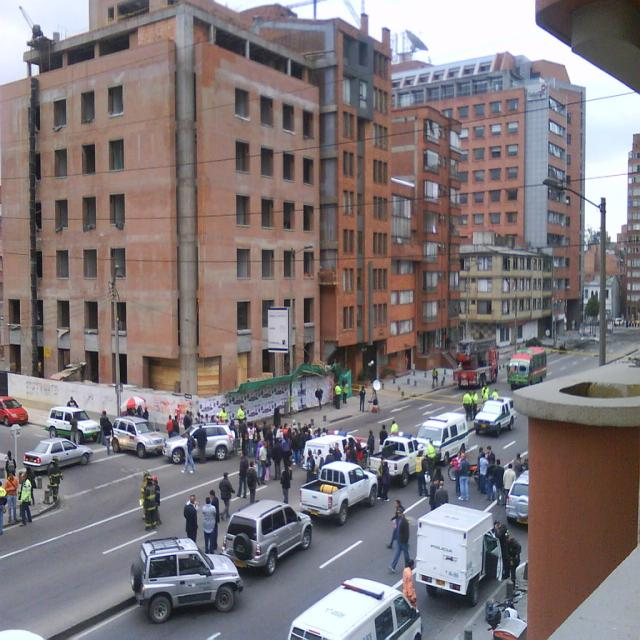car: (125, 539, 242, 620), (471, 396, 517, 437)
